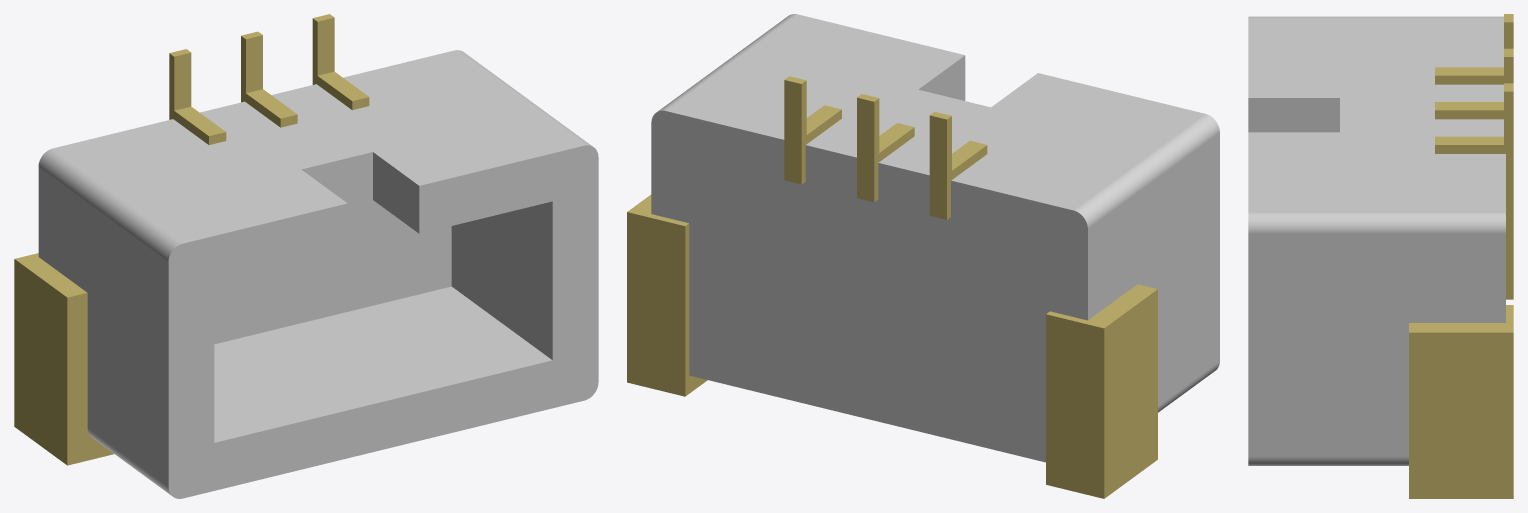
Rendered from jst_gh_3pin.glb.
3 renders of one model, left to right at view 1: azimuth 30°, elevation 25°; view 2: azimuth 150°, elevation 25°; view 3: azimuth 270°, elevation 25°, orthographic. The views are drawn at different scales.
Visible parts, largest first — view 1: world; view 2: world; view 3: world.
Part boxes in pixels (bbox=[...]): world: bbox=[14, 14, 598, 498]; world: bbox=[627, 14, 1219, 498]; world: bbox=[1248, 14, 1513, 498].
Size of the model in its own units: 8.2 by 5.6 by 4.05.
